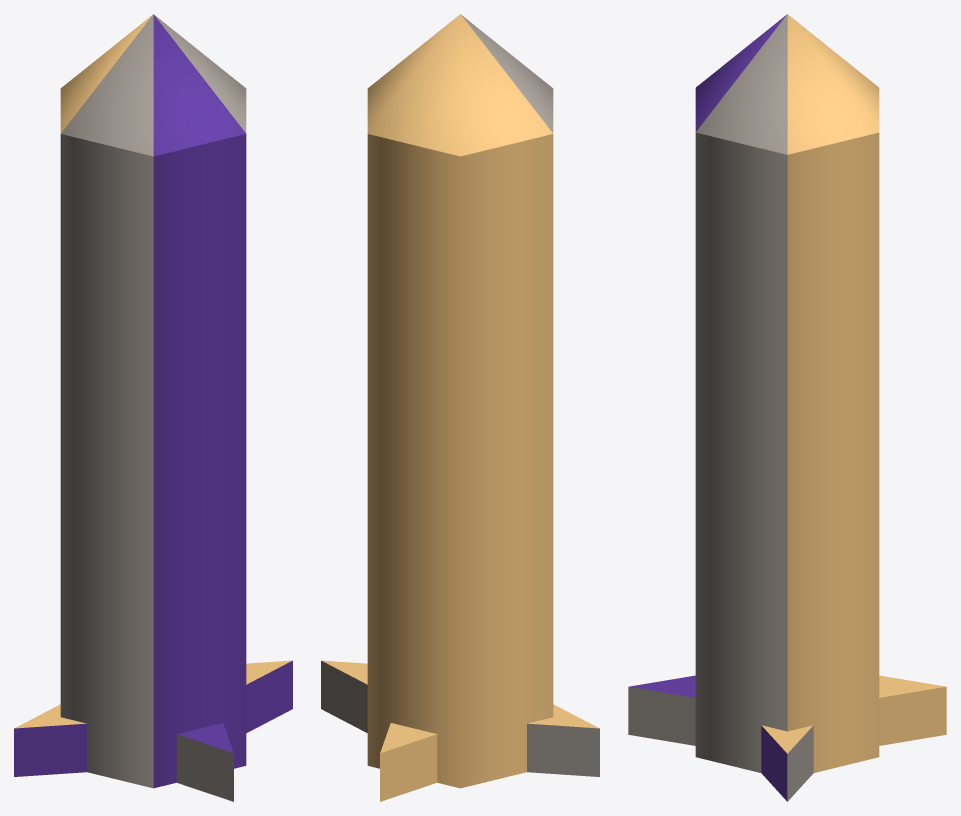
File: Solo.MissileMesh.BlackHole.glb
3 views of the same model, side by side, from view 1: azimuth 30°, elevation 25°; view 2: azimuth 150°, elevation 25°; view 3: azimuth 270°, elevation 25° (orthographic).
Visible parts, largest first — view 1: Solo.MissileMesh.BlackHole; view 2: Solo.MissileMesh.BlackHole; view 3: Solo.MissileMesh.BlackHole.
Part boxes in pixels (<box>): Solo.MissileMesh.BlackHole: <box>14,14,292,801</box>; Solo.MissileMesh.BlackHole: <box>321,14,599,801</box>; Solo.MissileMesh.BlackHole: <box>628,14,946,801</box>.
Size of the model in its own units: 0.6 by 1.5 by 0.6.
1 material, 1 textured.
